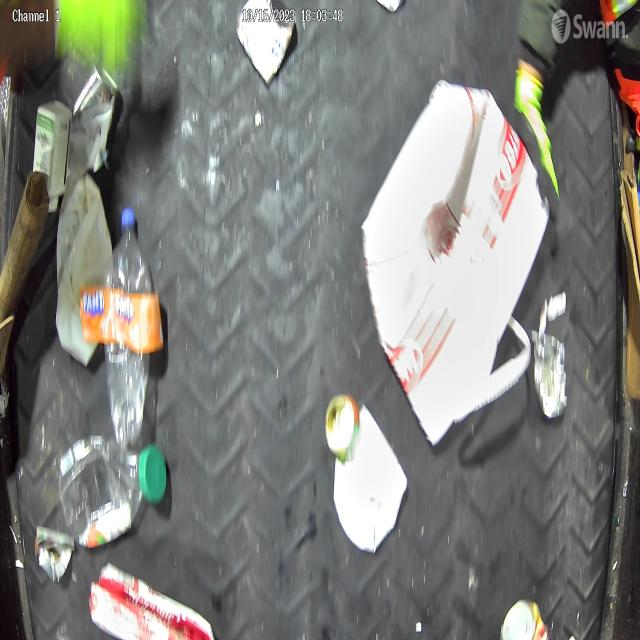can: (235, 0, 299, 85), (534, 335, 568, 415), (323, 397, 361, 468), (500, 595, 548, 640)
plastic_bottle: (106, 202, 157, 444)
